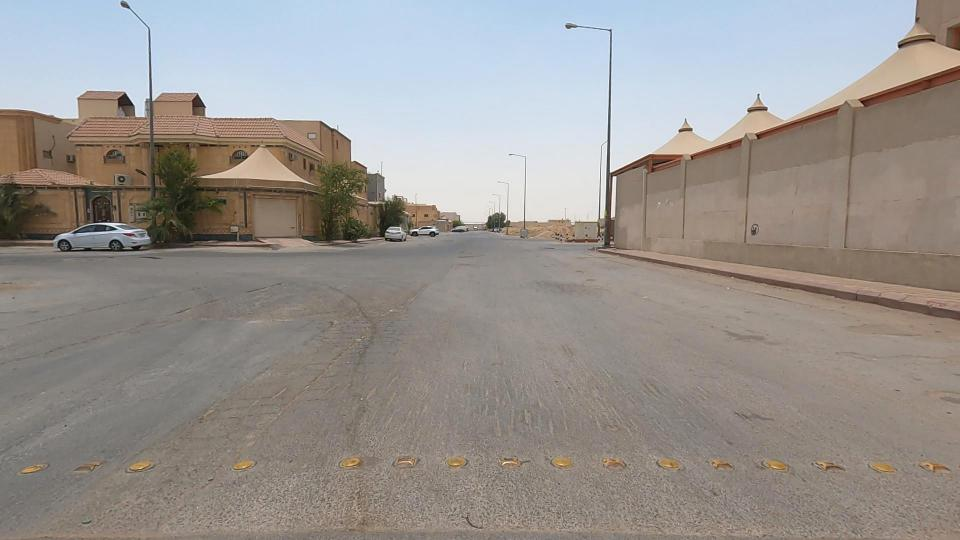POTHOLES: (163, 220, 486, 495)
